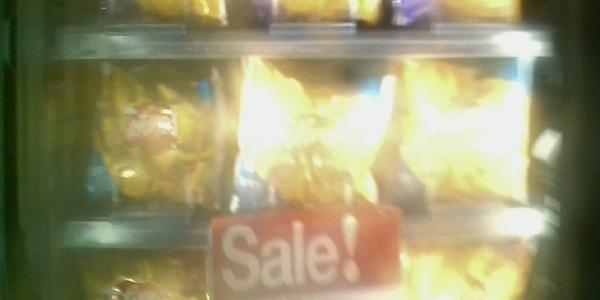icecream: (238, 53, 396, 231), (85, 60, 230, 221), (394, 56, 534, 219)
